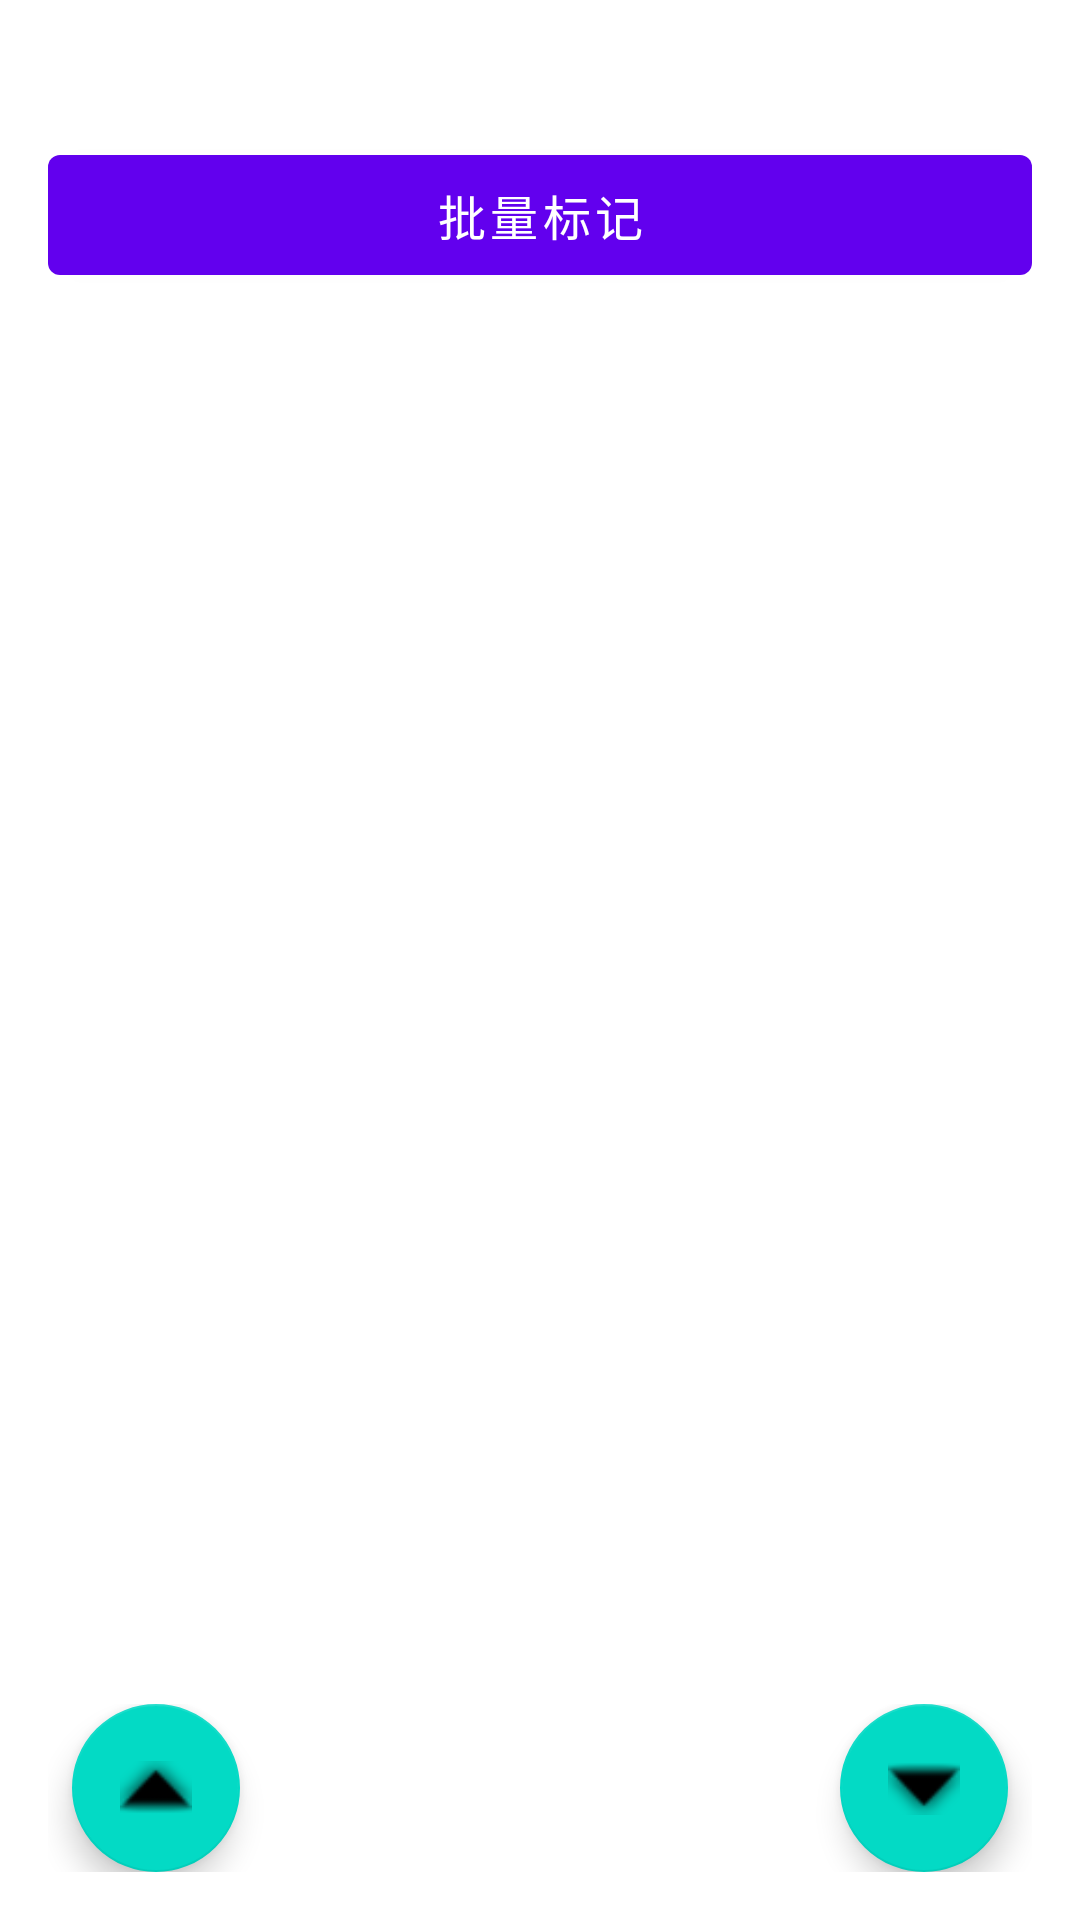

Named icons in this screenshot (1080*1920) and their centers, (x,y):
跳转到底部: (924,1788)
跳转到顶部: (156,1788)
